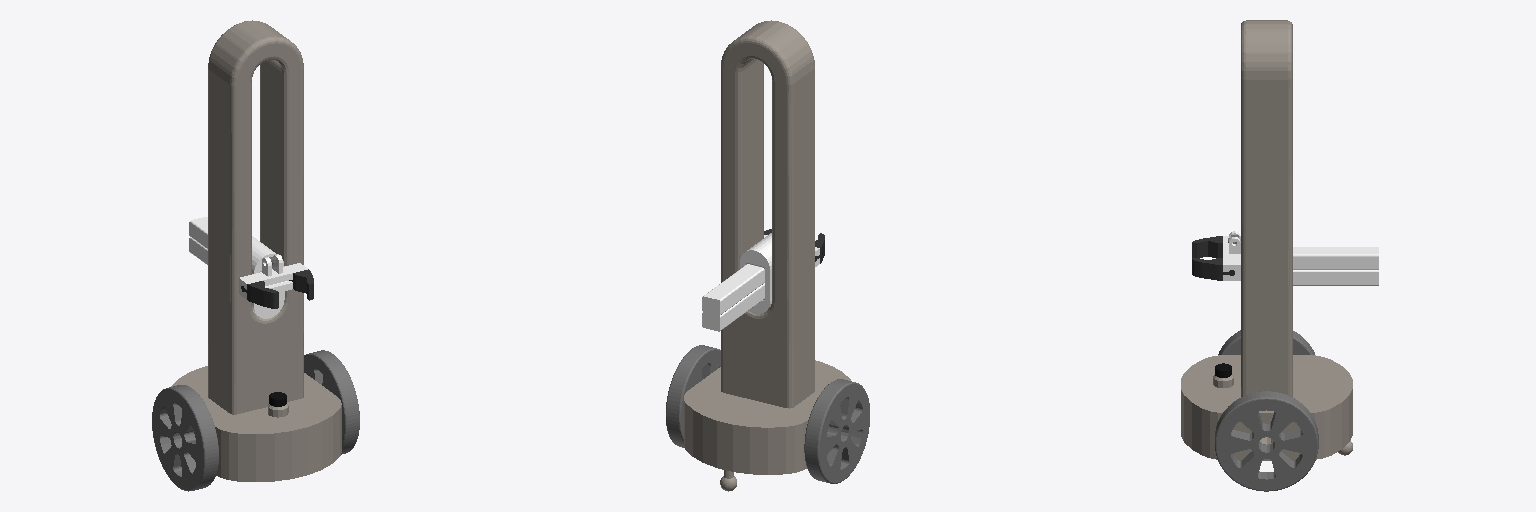
The robot description file, URDF, robot "Kbot":
<?xml version="1.0" encoding="utf-8"?>
<!-- This URDF was automatically created by SolidWorks to URDF Exporter! Originally created by [author] ([email redacted]) 
     Commit Version: 1.6.0-1-g15f4949  Build Version: 1.6.7594.29634
     For more information, please see http://wiki.ros.org/sw_urdf_exporter -->
<robot
  name="Kbot">
  <link
    name="base_link">
    <inertial>
      <origin
        xyz="3.193E-18 0.61547 0.00037174" rpy="0 0 0" />
      <mass
        value="3355.6" />
      <inertia
        ixx="2126.3" ixy="-2.8216E-14" ixz="2.3275E-15"
        iyy="241.78" iyz="0.5451" izz="2120.4" />
    </inertial>
    <visual>
      <origin
        xyz="0 0 0" rpy="0 0 0" />
      <geometry>
        <mesh
          filename="package://Kbot/meshes/base_link.STL" />
      </geometry>
      <material
        name="">
        <color
          rgba="0.64706 0.61961 0.58824 1" />
      </material>
    </visual>
    <collision>
      <origin
        xyz="0 0 0" rpy="0 0 0" />
      <geometry>
        <mesh
          filename="package://Kbot/meshes/base_link.STL" />
      </geometry>
    </collision>
  </link>
  <link
    name="ArmOne">
    <inertial>
      <origin
        xyz="-1.254E-17 0.2 5.062E-18" rpy="0 0 0" />
      <mass
        value="20.197" />
      <inertia
        ixx="0.45465" ixy="-4.4635E-19" ixz="1.4988E-18"
        iyy="0.22892" iyz="-2.6593E-18" izz="0.38173" />
    </inertial>
    <visual>
      <origin
        xyz="0 0 0" rpy="0 0 0" />
      <geometry>
        <mesh
          filename="package://Kbot/meshes/ArmOne.STL" />
      </geometry>
      <material
        name="">
        <color
          rgba="1 1 1 1" />
      </material>
    </visual>
    <collision>
      <origin
        xyz="0 0 0" rpy="0 0 0" />
      <geometry>
        <mesh
          filename="package://Kbot/meshes/ArmOne.STL" />
      </geometry>
    </collision>
  </link>
  <joint
    name="P1_joint"
    type="prismatic">
    <origin
      xyz="0 0 0.7" rpy="1.5708 0 0" />
    <parent
      link="base_link" />
    <child
      link="ArmOne" />
    <axis
      xyz="0 1 0" />
    <limit
      lower="0"
      upper="1.2"
      effort="100"
      velocity="0.3" />
  </joint>
  <link
    name="ArmTwo">
    <inertial>
      <origin
        xyz="6.0919E-17 0 2.8572E-17" rpy="0 0 0" />
      <mass
        value="6.7355" />
      <inertia
        ixx="0.40294" ixy="2.8995E-19" ixz="-3.6597E-18"
        iyy="0.40603" iyz="-1.8794E-20" izz="0.019804" />
    </inertial>
    <visual>
      <origin
        xyz="0 0 0" rpy="0 0 0" />
      <geometry>
        <mesh
          filename="package://Kbot/meshes/ArmTwo.STL" />
      </geometry>
      <material
        name="">
        <color
          rgba="1 1 1 1" />
      </material>
    </visual>
    <collision>
      <origin
        xyz="0 0 0" rpy="0 0 0" />
      <geometry>
        <mesh
          filename="package://Kbot/meshes/ArmTwo.STL" />
      </geometry>
    </collision>
  </link>
  <joint
  name="P2_joint"
  type="prismatic">
  <origin
    xyz="0 0.15 -0.25" rpy="0 0 0" />
  <parent
    link="ArmOne" />
  <child
    link="ArmTwo" />
  <axis
    xyz="0 0 1" />
  <limit
    lower="0.0"
    upper="0.5"
    effort="100"
    velocity="0.3" />
</joint>
  <link
    name="ArmThree">
    <inertial>
      <origin
        xyz="2.7824E-17 0.0035998 0.19157" rpy="0 0 0" />
      <mass
        value="11.802" />
      <inertia
        ixx="0.99207" ixy="1.7452E-18" ixz="1.4362E-16"
        iyy="1.0485" iyz="-0.010342" izz="0.09082" />
    </inertial>
    <visual>
      <origin
        xyz="0 0 0" rpy="0 0 0" />
      <geometry>
        <mesh
          filename="package://Kbot/meshes/ArmThree.STL" />
      </geometry>
      <material
        name="">
        <color
          rgba="1 1 1 1" />
      </material>
    </visual>
    <collision>
      <origin
        xyz="0 0 0" rpy="0 0 0" />
      <geometry>
        <mesh
          filename="package://Kbot/meshes/ArmThree.STL" />
      </geometry>
    </collision>
  </link>
  <joint
    name="P3_joint"
    type="prismatic">
    <origin
      xyz="0 0.1 0" rpy="0 0 0" />
    <parent
      link="ArmTwo" />
    <child
      link="ArmThree" />
    <axis
      xyz="0 0 1" />
    <limit
      lower="0.0"
      upper="0.5"
      effort="100"
      velocity="0.2" />
  </joint>
  <link
    name="Sen_Camera">
    <inertial>
      <origin
        xyz="0 0 0.0036315" rpy="0 1.57075 0" />
      <mass
        value="0.12438" />
      <inertia
        ixx="5.5707E-05" ixy="-2.1049E-21" ixz="8.709E-22"
        iyy="5.2822E-05" iyz="-3.8203E-21" izz="4.1476E-05" />
    </inertial>
    <visual>
      <origin
        xyz="0 0 0" rpy="0 1.57075 0" />
      <geometry>
        <mesh
          filename="package://Kbot/meshes/Sen_Camera.STL" />
      </geometry>
      <material
        name="">
        <color
          rgba="0.50196 0.50196 0.50196 1" />
      </material>
    </visual>
    <collision>
      <origin
        xyz="0 0 0" rpy="0 1.57075 0" />
      <geometry>
        <mesh
          filename="package://Kbot/meshes/Sen_Camera.STL" />
      </geometry>
    </collision>
  </link>
  <joint
    name="Cam_joint"
    type="fixed">
    <origin
      xyz="0 0.115 0.435" rpy="0 -1.57075 0" />
    <parent
      link="ArmThree" />
    <child
      link="Sen_Camera" />
    <axis
      xyz="1 0 0" />
    <!-- <limit
      lower="-1.5708"
      upper="1.5708"
      effort="100"
      velocity="1" /> -->
  </joint>
  <link
    name="LeftJaw">
    <inertial>
      <origin
        xyz="0.045241 1.1102E-16 0.10562"
        rpy="0 0 0" />
      <mass
        value="1.8096" />
      <inertia
        ixx="0.0082504"
        ixy="-5.8796E-20"
        ixz="0.00082345"
        iyy="0.0080415"
        iyz="-7.2256E-20"
        izz="0.0024053" />
    </inertial>
    <visual>
      <origin
        xyz="0 0 0"
        rpy="0 0 0" />
      <geometry>
        <mesh
          filename="package://Kbot/meshes/LeftJaw.STL" />
      </geometry>
      <material
        name="">
        <color
          rgba="0.25098 0.25098 0.25098 1" />
      </material>
    </visual>
    <collision>
      <origin
        xyz="0 0 0"
        rpy="0 0 0" />
      <geometry>
        <mesh
          filename="package://Kbot/meshes/LeftJaw.STL" />
      </geometry>
    </collision>
  </link>
  <joint
    name="P4_joint"
    type="prismatic">
    <origin
      xyz="0.1 0 0.45"
      rpy="0 0 0" />
    <parent
      link="ArmThree" />
    <child
      link="LeftJaw" />
    <axis
      xyz="1 0 0" />
    <limit
      lower="-0.1"
      upper="0"
      effort="100"
      velocity="0.05" />
  </joint>
  <link
    name="RightJaw">
    <inertial>
      <origin
        xyz="0.045241 -1.1102E-16 0.10562"
        rpy="0 0 0" />
      <mass
        value="1.8096" />
      <inertia
        ixx="0.0082504"
        ixy="-3.416E-20"
        ixz="0.00082345"
        iyy="0.0080415"
        iyz="-1.2064E-19"
        izz="0.0024053" />
    </inertial>
    <visual>
      <origin
        xyz="0 0 0"
        rpy="0 0 0" />
      <geometry>
        <mesh
          filename="package://Kbot/meshes/RightJaw.STL" />
      </geometry>
      <material
        name="">
        <color
          rgba="0.25098 0.25098 0.25098 1" />
      </material>
    </visual>
    <collision>
      <origin
        xyz="0 0 0"
        rpy="0 0 0" />
      <geometry>
        <mesh
          filename="package://Kbot/meshes/RightJaw.STL" />
      </geometry>
    </collision>
  </link>
  <joint
    name="P5_joint"
    type="prismatic">
    <origin
      xyz="-0.1 0 0.45"
      rpy="0 0 3.1416" />
    <parent
      link="ArmThree" />
    <child
      link="RightJaw" />
    <axis
      xyz="1 0 0" />
    <limit
      lower="-0.1"
      upper="0"
      effort="100"
      velocity="0.05" />
  </joint>
  <link
    name="Sen_Lidar">
    <inertial>
      <origin
        xyz="-1.0408E-17 0.025 -8.3267E-17"
        rpy="0 0 0" />
      <mass
        value="0.39719" />
      <inertia
        ixx="0.00032785"
        ixy="-7.1325E-22"
        ixz="0"
        iyy="0.00049265"
        iyz="-5.5768E-21"
        izz="0.00032785" />
    </inertial>
    <visual>
      <origin
        xyz="0 0 0"
        rpy="0 0 0" />
      <geometry>
        <mesh
          filename="package://Kbot/meshes/Sen_Lidar.STL" />
      </geometry>
      <material
        name="">
        <color
          rgba="0.1098 0.1098 0.1098 1" />
      </material>
    </visual>
    <collision>
      <origin
        xyz="0 0 0"
        rpy="0 0 0" />
      <geometry>
        <mesh
          filename="package://Kbot/meshes/Sen_Lidar.STL" />
      </geometry>
    </collision>
  </link>
  <joint
    name="Li_joint"
    type="continuous">
    <origin
      xyz="0 -0.25 0.21"
      rpy="1.5708 0 -0.12415" />
    <parent
      link="base_link" />
    <child
      link="Sen_Lidar" />
    <axis
      xyz="0 1 0" />
  </joint>
  <link
    name="LeftWheel">
    <inertial>
      <origin
        xyz="0.05 -9.5077E-17 -9.1528E-18"
        rpy="0 0 0" />
      <mass
        value="20.424" />
      <inertia
        ixx="1.048"
        ixy="5.006E-19"
        ixz="-1.7737E-18"
        iyy="0.5409"
        iyz="-3.7852E-16"
        izz="0.5409" />
    </inertial>
    <visual>
      <origin
        xyz="0 0 0"
        rpy="0 0 0" />
      <geometry>
        <mesh
          filename="package://Kbot/meshes/LeftWheel.STL" />
      </geometry>
      <material
        name="">
        <color
          rgba="0.50196 0.50196 0.50196 1" />
      </material>
    </visual>
    <collision>
      <origin
        xyz="0 0 0"
        rpy="0 0 0" />
      <geometry>
        <mesh
          filename="package://Kbot/meshes/LeftWheel.STL" />
      </geometry>
    </collision>
  </link>
  <joint
    name="C1_joint"
    type="continuous">
    <origin
      xyz="0.41 0 0"
      rpy="1.5708 0 0" />
    <parent
      link="base_link" />
    <child
      link="LeftWheel" />
    <axis
      xyz="1 0 0" />
    <limit
      effort="100"
      velocity="10" />
    <dynamics
      damping="0.5"
      friction="10.8" />
  </joint>
  <link
    name="RightWheel">
    <inertial>
      <origin
        xyz="-0.05 -9.3644E-17 -9.874E-18"
        rpy="0 0 0" />
      <mass
        value="20.424" />
      <inertia
        ixx="1.048"
        ixy="3.764E-19"
        ixz="1.9643E-18"
        iyy="0.5409"
        iyz="-3.7771E-16"
        izz="0.5409" />
    </inertial>
    <visual>
      <origin
        xyz="0 0 0"
        rpy="0 0 0" />
      <geometry>
        <mesh
          filename="package://Kbot/meshes/RightWheel.STL" />
      </geometry>
      <material
        name="">
        <color
          rgba="0.50196 0.50196 0.50196 1" />
      </material>
    </visual>
    <collision>
      <origin
        xyz="0 0 0"
        rpy="0 0 0" />
      <geometry>
        <mesh
          filename="package://Kbot/meshes/RightWheel.STL" />
      </geometry>
    </collision>
  </link>
  <joint
    name="C2_joint"
    type="continuous">
    <origin
      xyz="-0.41 0 0"
      rpy="1.5708 0 0" />
    <parent
      link="base_link" />
    <child
      link="RightWheel" />
    <axis
      xyz="1 0 0" />
    <limit
      effort="100"
      velocity="10" />
    <dynamics
      damping="0.5"
      friction="10.8" />
  </joint>
  <link
    name="FrontWheel">
    <inertial>
      <origin
        xyz="-2.2646E-35 -0.083438 5.5511E-17"
        rpy="0 0 0" />
      <mass
        value="50000.293" />
      <inertia
        ixx="0.0095773"
        ixy="8.2033E-36"
        ixz="3.1462E-36"
        iyy="0.0046446"
        iyz="3.3599E-20"
        izz="0.0095773" />
    </inertial>
    <visual>
      <origin
        xyz="0 0 0"
        rpy="0 0 0" />
      <geometry>
        <mesh
          filename="package://Kbot/meshes/FrontWheel.STL" />
      </geometry>
      <material
        name="">
        <color
          rgba="0.64706 0.61961 0.58824 1" />
      </material>
    </visual>
    <collision>
      <origin
        xyz="0 0 0"
        rpy="0 0 0" />
      <geometry>
        <mesh
          filename="package://Kbot/meshes/FrontWheel.STL" />
      </geometry>
    </collision>
  </link>
  <joint
    name="F1_joint"
    type="fixed">
    <origin
      xyz="0 -0.45 -0.15"
      rpy="1.5708 0 0" />
    <parent
      link="base_link" />
    <child
      link="FrontWheel" />
    <axis
      xyz="0 0 0" />
    <dynamics
      friction="0.1" />
  </joint>
  <link
    name="BackWheel">
    <inertial>
      <origin
        xyz="-2.2646E-35 -0.083438 0"
        rpy="0 0 0" />
      <mass
        value="5.293" />
      <inertia
        ixx="0.0095773"
        ixy="8.2033E-36"
        ixz="3.1462E-36"
        iyy="0.0046446"
        iyz="3.3599E-20"
        izz="0.0095773" />
    </inertial>
    <visual>
      <origin
        xyz="0 0 0"
        rpy="0 0 0" />
      <geometry>
        <mesh
          filename="package://Kbot/meshes/BackWheel.STL" />
      </geometry>
      <material
        name="">
        <color
          rgba="0.64706 0.61961 0.58824 1" />
      </material>
    </visual>
    <collision>
      <origin
        xyz="0 0 0"
        rpy="0 0 0" />
      <geometry>
        <mesh
          filename="package://Kbot/meshes/BackWheel.STL" />
      </geometry>
    </collision>
  </link>
  <joint
    name="F2_joint"
    type="fixed">
    <origin
      xyz="0 0.45 -0.15"
      rpy="1.5708 0 0" />
    <parent
      link="base_link" />
    <child
      link="BackWheel" />
    <axis
      xyz="0 0 0" />
    <dynamics
      friction="0.1" />
  </joint>

  <!-- Gazebo plugin for ROS Control -->
  <gazebo>
    <plugin name="gazebo_ros_control" filename="libgazebo_ros_control.so">
      <robotNamespace>/</robotNamespace>
    </plugin>
  </gazebo>

  <gazebo>
    <plugin name="differential_drive_controller" filename="libgazebo_ros_diff_drive.so">
      <alwaysOn>false</alwaysOn>
      <legacyMode>false</legacyMode>
      <updateRate>20</updateRate>
      <leftJoint>LeftWheel</leftJoint>
      <rightJoint>RightWheel</rightJoint>
      <wheelSeparation>0.86</wheelSeparation>
      <wheelDiameter>0.6</wheelDiameter>
      <torque>20</torque>
      <commandTopic>/cmd_vel</commandTopic>
      <odometryTopic>/odom</odometryTopic>
      <odometryFrame>odom</odometryFrame>
      <robotBaseFrame>base_link</robotBaseFrame>
      <publishWheelTF>false</publishWheelTF>
      <publishWheelJointState>false</publishWheelJointState>
      <rosDebugLevel>na</rosDebugLevel>
      <wheelAcceleration>0</wheelAcceleration>
      <wheelTorque>5</wheelTorque>
      <odometrySource>world</odometrySource>
      <publishTf>1</publishTf>
      <publishOdomTF>true</publishOdomTF>
    </plugin>
  </gazebo>
  
  <!-- camera -->
  <gazebo reference="Sen_Camera">
    <material>Gazebo/Yellow</material>
    <sensor type="camera" name="camera1">
        <update_rate>30.0</update_rate>
        <camera name ="head">
            <origin xyz="0.0 0.0 0.0" rpy="0.0 0.0 1.570575"/>
            <horizontal_fov>1.3962634</horizontal_fov>
            <image>
                <width>400</width>
                <height>400</height>
                <format>R8G8B8</format>
            </image>
            <clip>
                <near>0.1</near>
                <far>300</far>
            </clip>
        </camera>
        <plugin name="camera_controller" filename="libgazebo_ros_camera.so">
            <alwaysOn>true</alwaysOn>
            <updateRate>0.0</updateRate>
            <cameraName>Kbot/camera1</cameraName>
            <imageTopicName>image_raw</imageTopicName>
            <cameraInfoTopicName>camera_info</cameraInfoTopicName>
            <frameName>Sen_Camera</frameName>
            <hackBaseline>0.07</hackBaseline>
            <distortionK1>0.0</distortionK1>
            <distortionK2>0.0</distortionK2>
            <distortionK3>0.0</distortionK3>
            <distortionT1>0.0</distortionT1>
            <distortionT2>0.0</distortionT2>
        </plugin>
    </sensor>
</gazebo>
  
</robot>

--- Render facts (derived) ---
Views: 3 orthographic renders of the robot side by side, from view 1: azimuth 30°, elevation 25°; view 2: azimuth 150°, elevation 25°; view 3: azimuth 270°, elevation 25°.
Model Kbot with 12 links and 11 joints (3 continuous, 5 prismatic, 3 fixed), rooted at base_link, posed all joints at 0.
Links seen in each view (by area): view 1: base_link, RightWheel, LeftWheel, ArmThree, ArmOne, RightJaw; view 2: base_link, RightWheel, LeftWheel, ArmThree, ArmOne, ArmTwo; view 3: base_link, LeftWheel, ArmThree, ArmTwo, RightWheel, LeftJaw, RightJaw.
Boxes of the visible links, x1,y1,x2,y2 form: base_link: (171, 20, 341, 481); RightWheel: (152, 385, 218, 491); LeftWheel: (304, 350, 359, 454); ArmThree: (189, 217, 307, 299); ArmOne: (252, 236, 284, 318); RightJaw: (241, 281, 278, 308); base_link: (684, 20, 850, 474); RightWheel: (804, 379, 869, 483); LeftWheel: (666, 345, 720, 447); ArmThree: (702, 235, 819, 315); ArmOne: (740, 233, 771, 313); ArmTwo: (702, 283, 764, 331); base_link: (1181, 20, 1352, 460); LeftWheel: (1215, 391, 1318, 491); ArmThree: (1223, 231, 1378, 280); ArmTwo: (1293, 270, 1378, 285); RightWheel: (1218, 330, 1314, 354); LeftJaw: (1192, 258, 1234, 280); RightJaw: (1192, 236, 1222, 257).
Size in the robot's own frame: 1.02 by 1.15 by 2.74 metres.
Meshes: 12 distinct files referenced, 11 mesh visuals loaded (11 binary STL); not drawn: 1 (reference not matched to a file when rendering).
